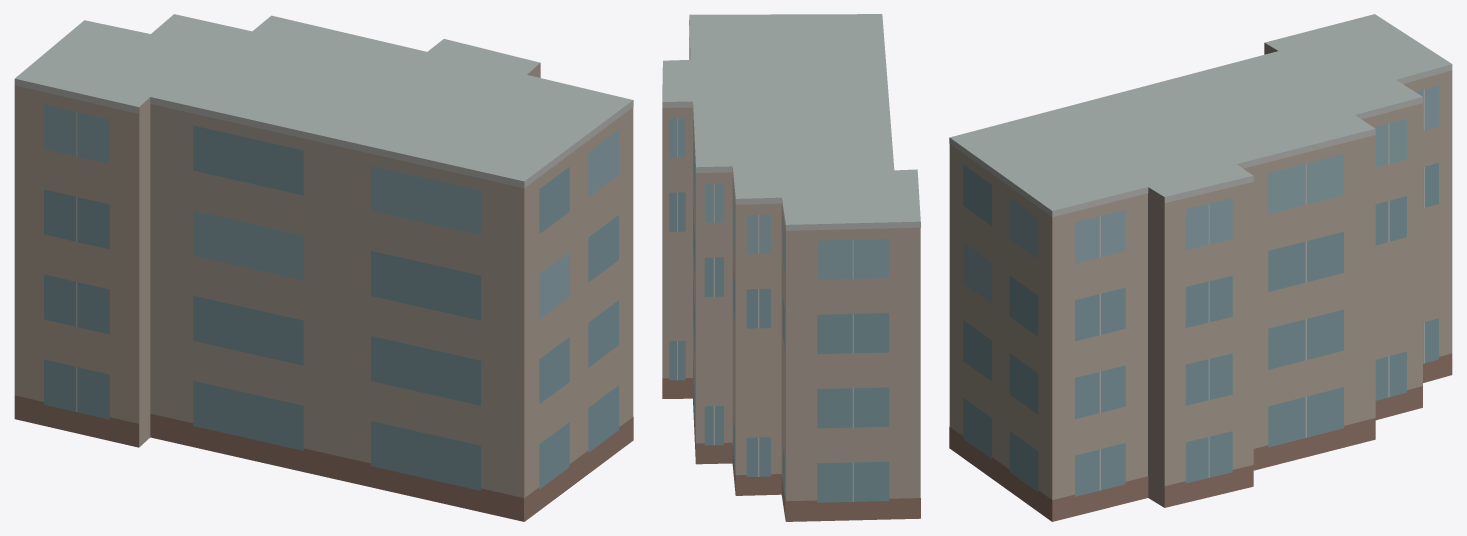
Rendered from survey-upis-32735120.glb.
3 renders of one model, left to right at view 1: azimuth 30°, elevation 25°; view 2: azimuth 150°, elevation 25°; view 3: azimuth 270°, elevation 25°, orthographic. The views are drawn at different scales.
Parts seen in each view (by area): view 1: survey-upis-32735120.tmp; view 2: survey-upis-32735120.tmp; view 3: survey-upis-32735120.tmp.
Part boxes in pixels (<box>): survey-upis-32735120.tmp: <box>14,14,633,521</box>; survey-upis-32735120.tmp: <box>662,14,920,521</box>; survey-upis-32735120.tmp: <box>949,14,1452,521</box>.
Size of the model in its own units: 16.59 by 12.2 by 17.89.
